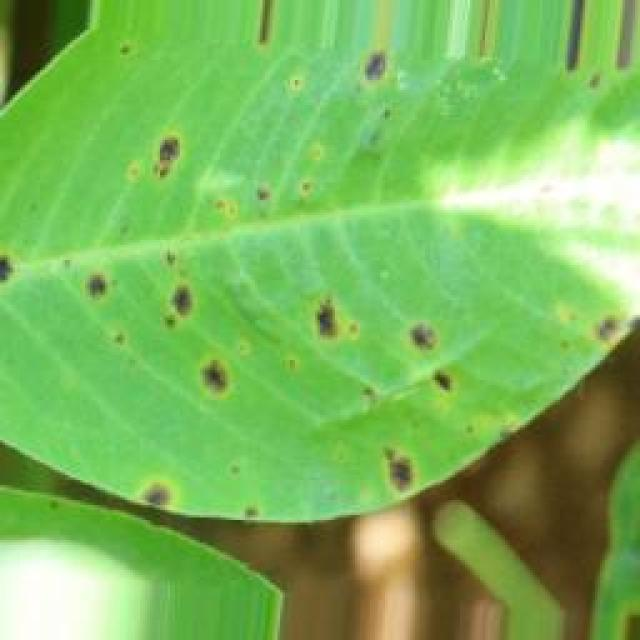Sigatoka: (387, 299, 481, 397), (351, 435, 434, 504), (570, 288, 640, 358), (277, 282, 366, 334), (149, 272, 206, 345), (139, 132, 187, 194), (242, 178, 314, 216), (190, 356, 238, 407), (356, 47, 392, 102), (348, 362, 379, 410), (105, 37, 144, 75), (275, 338, 310, 378), (142, 480, 179, 517), (82, 261, 109, 307), (0, 251, 19, 281)
